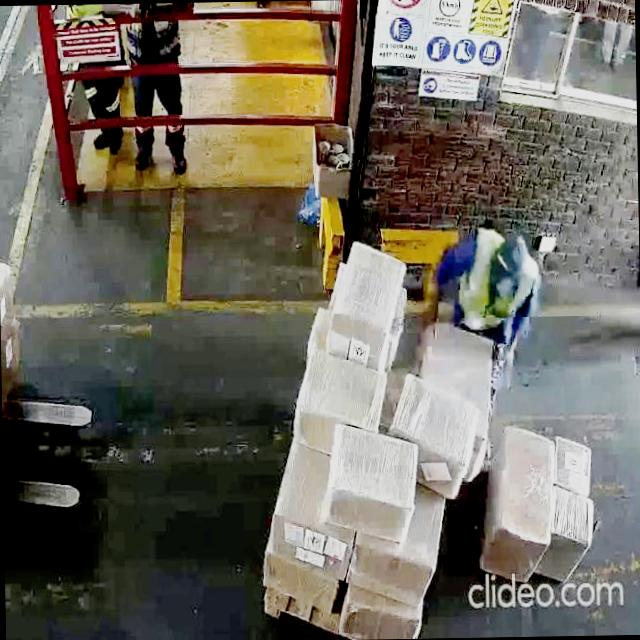Box: (324, 427, 413, 541), (492, 429, 550, 574), (326, 237, 398, 353), (394, 375, 474, 469), (294, 354, 382, 436), (356, 537, 434, 596), (271, 506, 350, 564), (258, 551, 338, 607), (342, 592, 418, 640), (551, 487, 585, 565), (556, 424, 591, 497)
